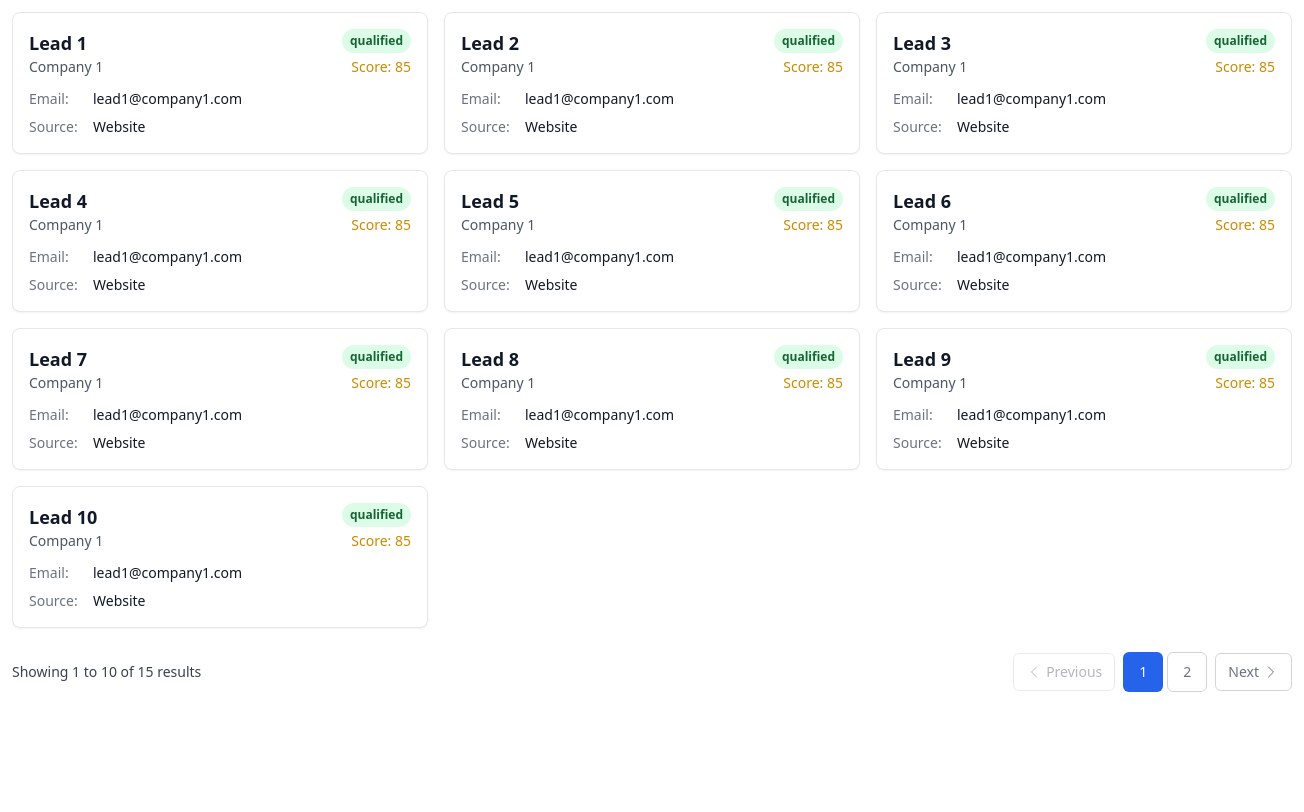
Test case: LeadsGrid › navigates to previous page when Previous button is clicked
Click the button "Next": (1254, 672) x1=1215 y1=653 x2=1292 y2=691
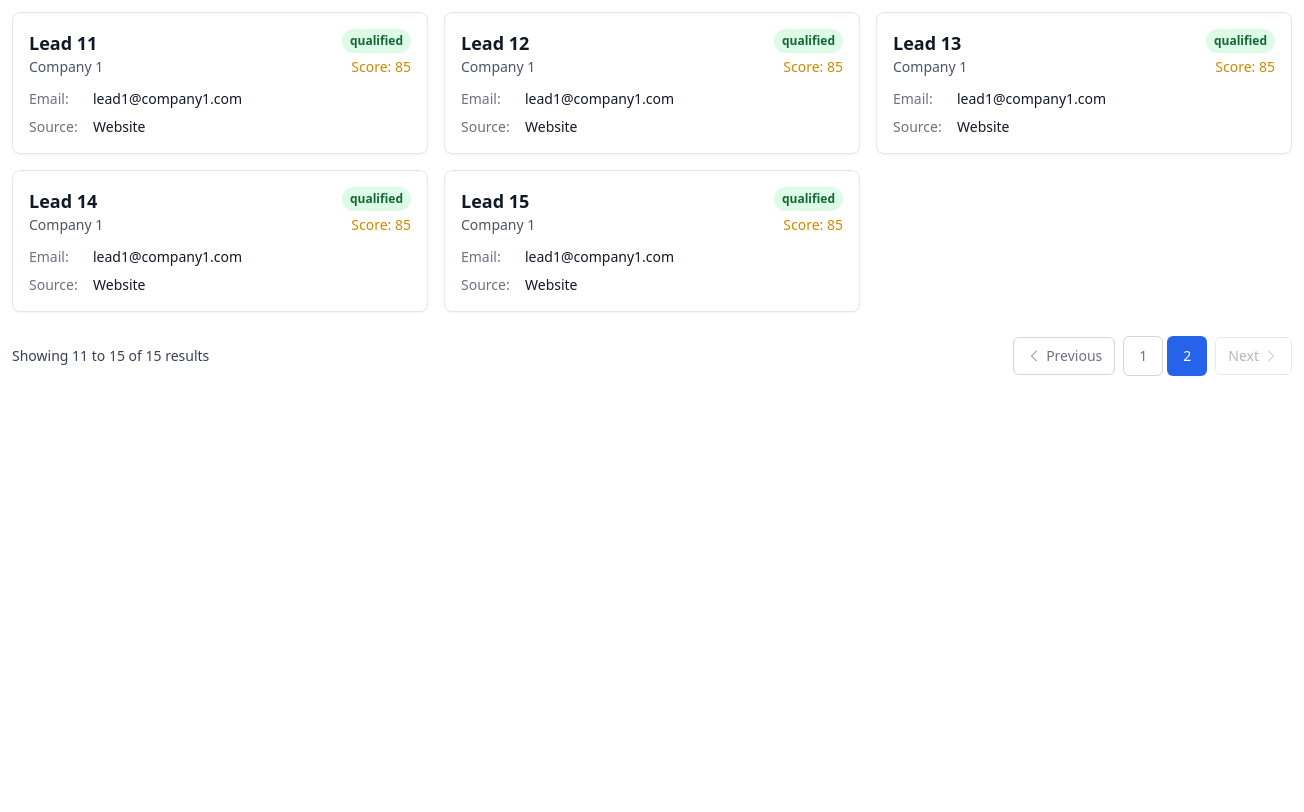
Click the button "Previous": (1064, 356) x1=1013 y1=337 x2=1115 y2=375
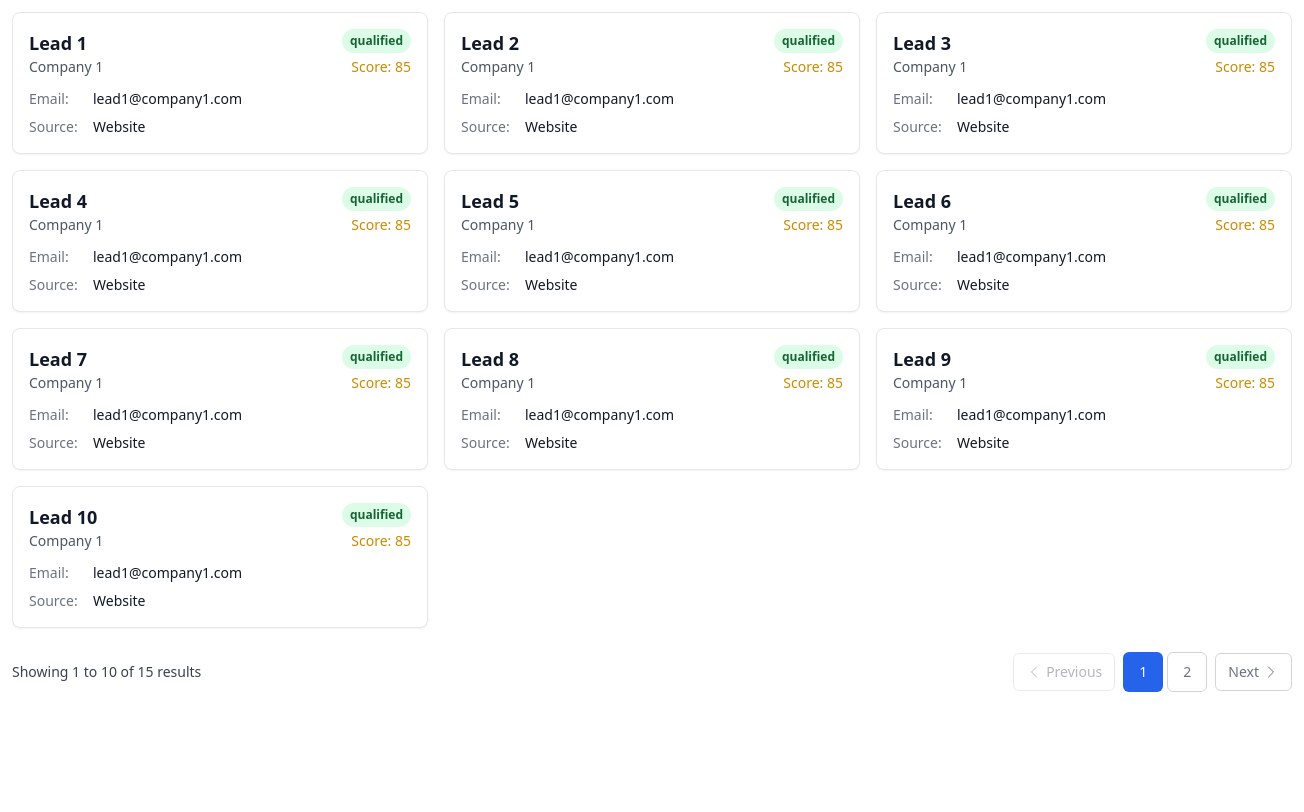
Check: the text "Showing 1 to 10 of 15 results" is shown, box x1=12 y1=662 x2=201 y2=682
